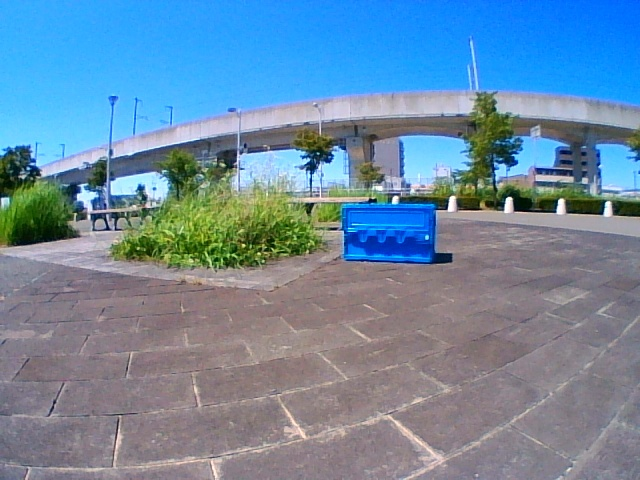blue_box: (344, 205, 431, 261)
